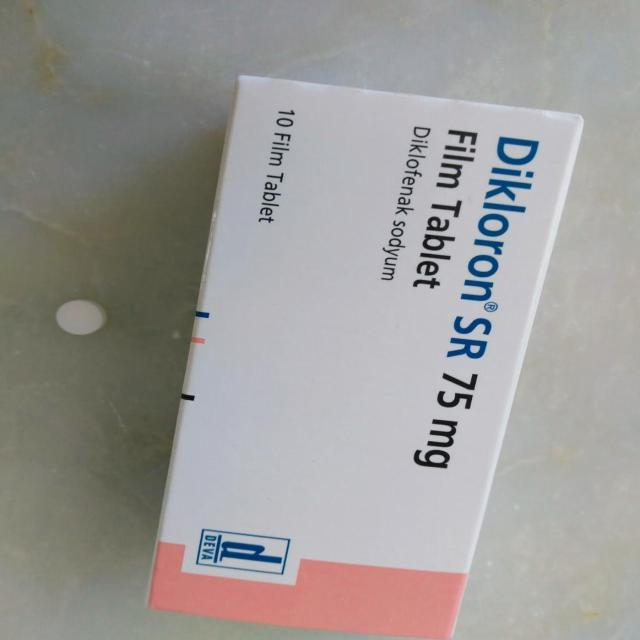pill: (50, 294, 118, 343)
